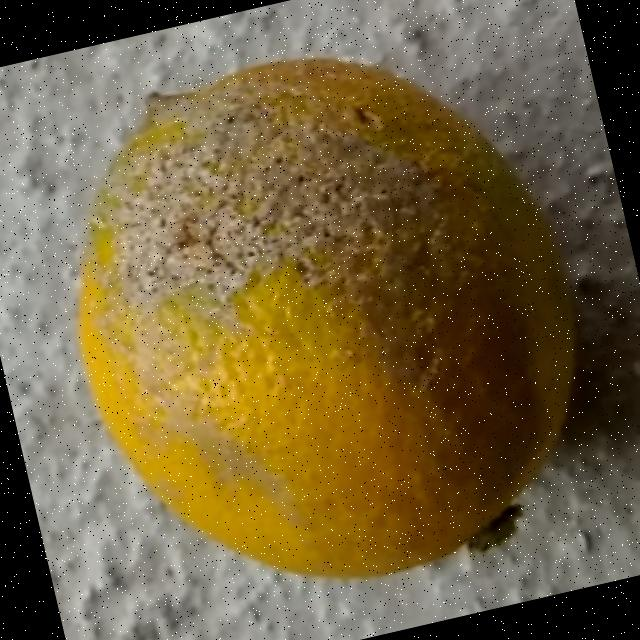overripe: (22, 0, 629, 638)
